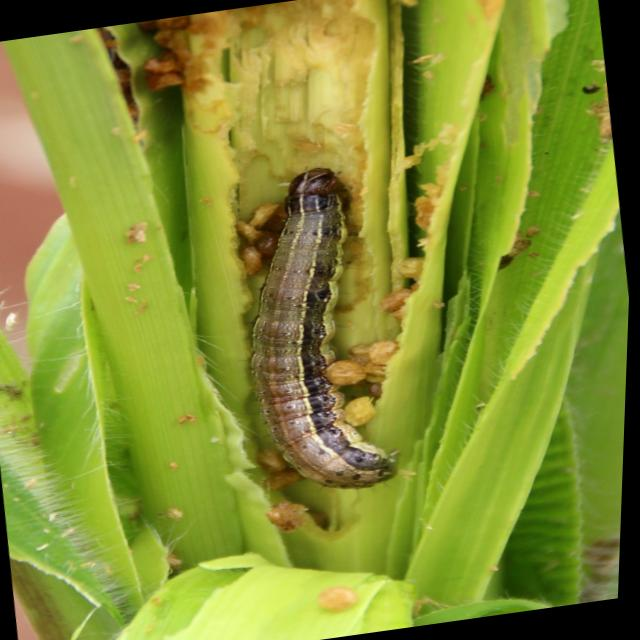Fall-Armyworm: (213, 154, 430, 508)
